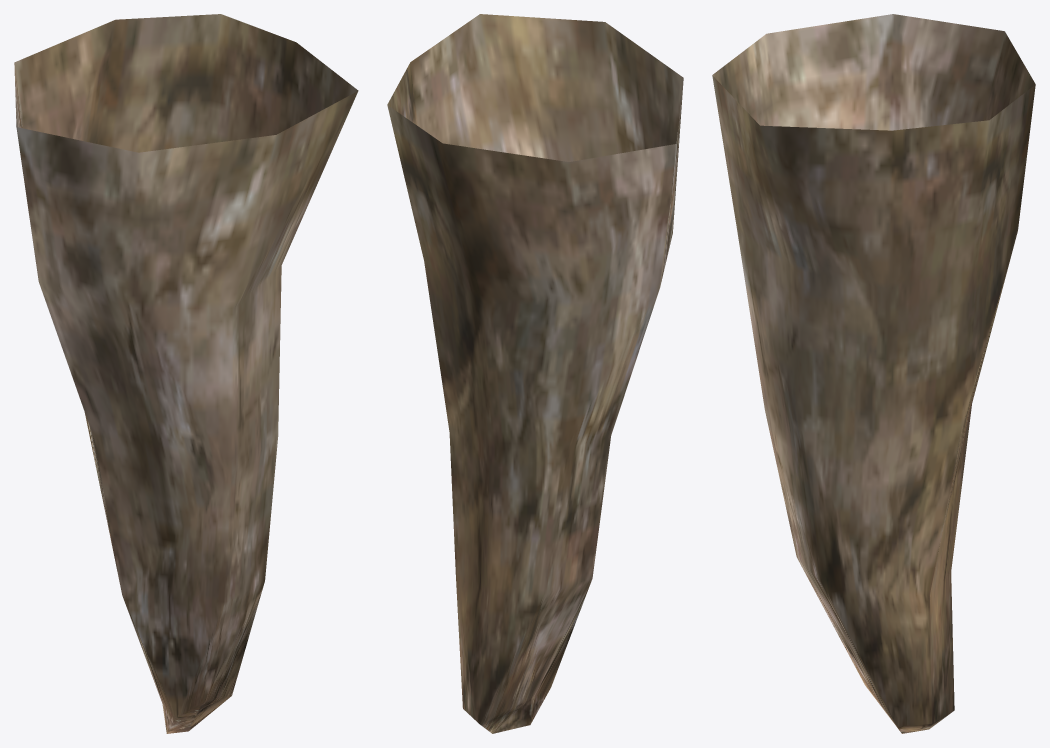
File: thm_tato_cave_stalactite_sml_l0.fbx
3 views of the same model, side by side, from view 1: azimuth 30°, elevation 25°; view 2: azimuth 150°, elevation 25°; view 3: azimuth 270°, elevation 25° (orthographic). The views are drawn at different scales.
Parts seen in each view (by area): view 1: mesh_node; view 2: mesh_node; view 3: mesh_node.
Part boxes in pixels (x1=…): mesh_node: x1=14, y1=14, x2=358, y2=733; mesh_node: x1=387, y1=14, x2=683, y2=733; mesh_node: x1=712, y1=14, x2=1035, y2=733.
Size of the model in its own units: 1.05 by 2.4 by 1.08.
